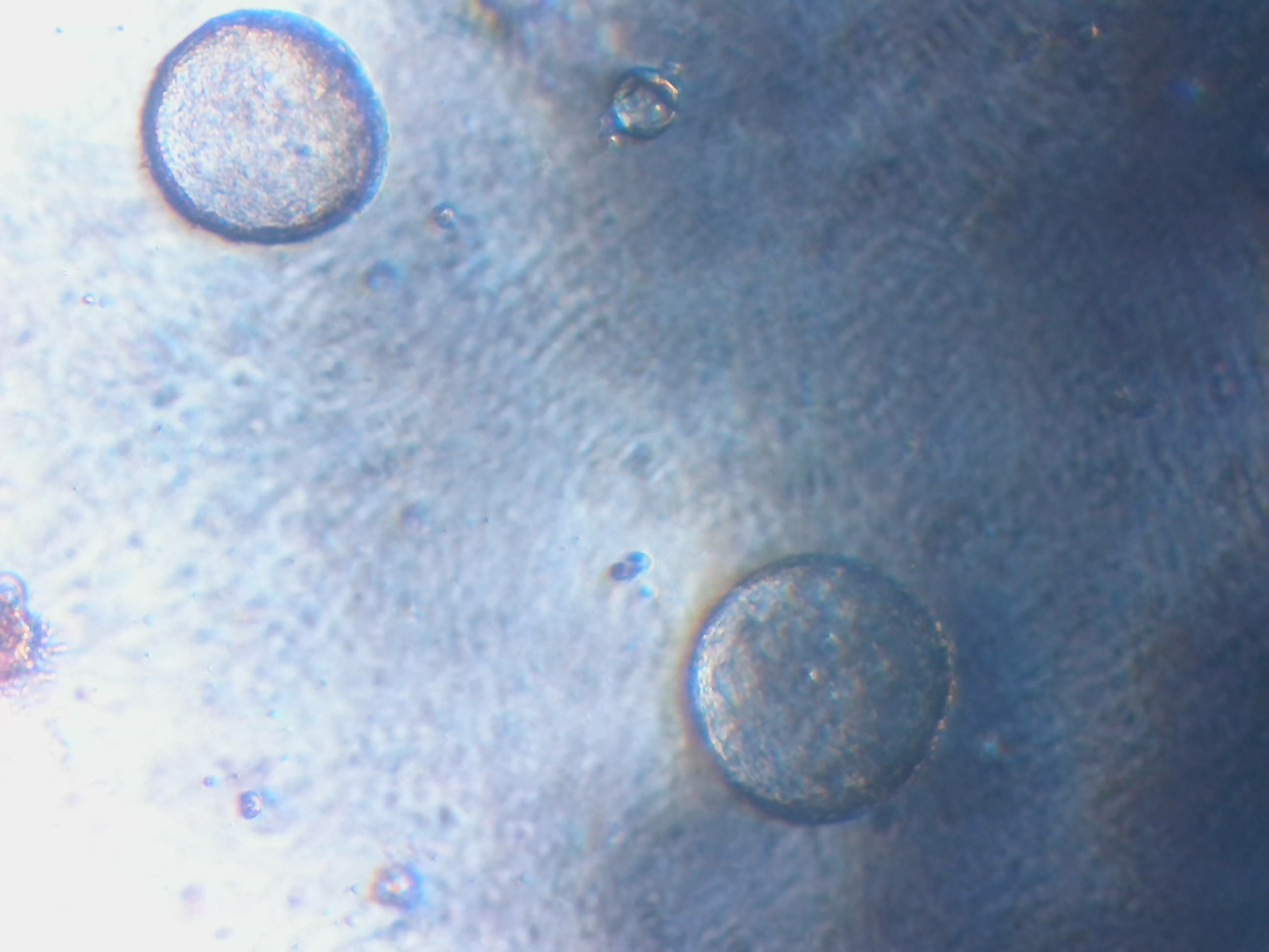organoid: (689, 542, 960, 823), (138, 4, 387, 248)
